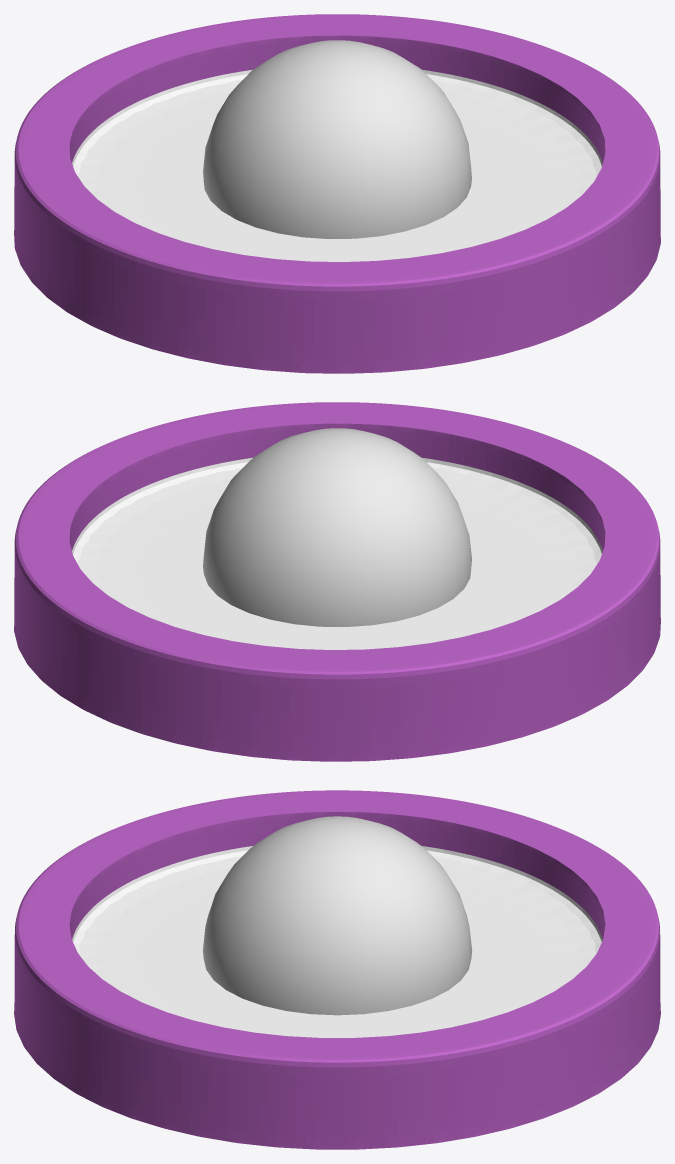
Rendered from PearlToken.fbx.
3 views of the same model, one above another, from view 1: azimuth 30°, elevation 25°; view 2: azimuth 150°, elevation 25°; view 3: azimuth 270°, elevation 25° (orthographic).
Visible parts, largest first — view 1: 원형, Sphere; view 2: 원형, Sphere; view 3: 원형, Sphere.
Boxes of the visible parts, bbox=[...] form: 원형: bbox=[14, 14, 660, 373]; Sphere: bbox=[203, 40, 471, 238]; 원형: bbox=[14, 402, 660, 761]; Sphere: bbox=[203, 428, 471, 626]; 원형: bbox=[14, 790, 660, 1149]; Sphere: bbox=[202, 816, 472, 1015].
Bounding box in the file's own units: 200 × 62.83 × 200.
